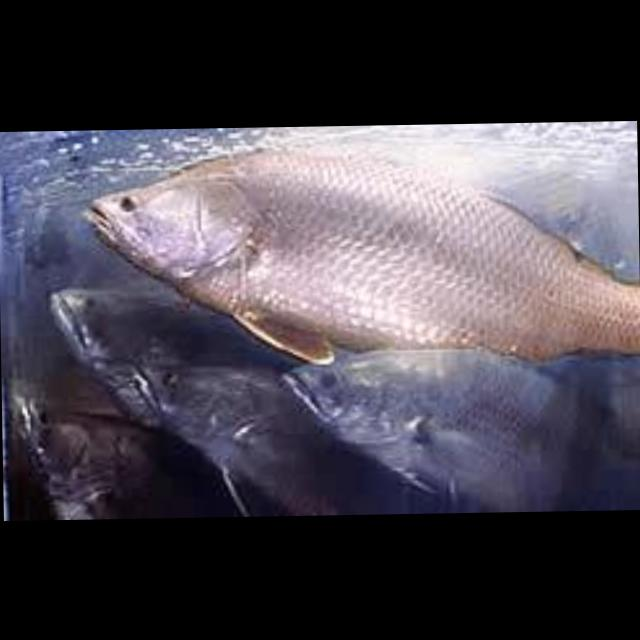Seabass: (85, 137, 640, 365), (282, 344, 640, 514)
